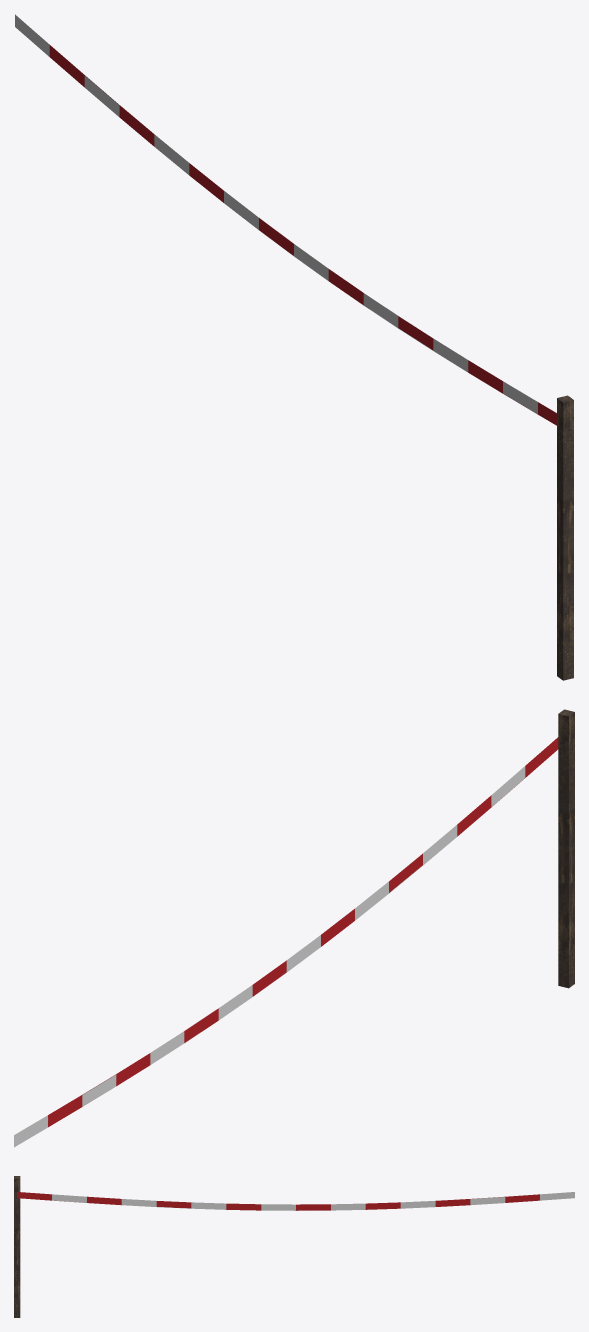
Rendered from tape_stake.glb.
3 renders of one model, top to bottom at view 1: azimuth 30°, elevation 25°; view 2: azimuth 150°, elevation 25°; view 3: azimuth 270°, elevation 25°, orthographic. The views are drawn at different scales.
Parts seen in each view (by area): view 1: tape_stake; view 2: tape_stake; view 3: tape_stake.
Boxes of the visible parts, x1,y1,x2,y2 form: tape_stake: (15, 14, 573, 680); tape_stake: (14, 709, 574, 1147); tape_stake: (14, 1176, 574, 1317).
Size of the model in its own units: 0.0525 by 1.1 by 4.02.
Materials: 1 (1 with a texture image).
